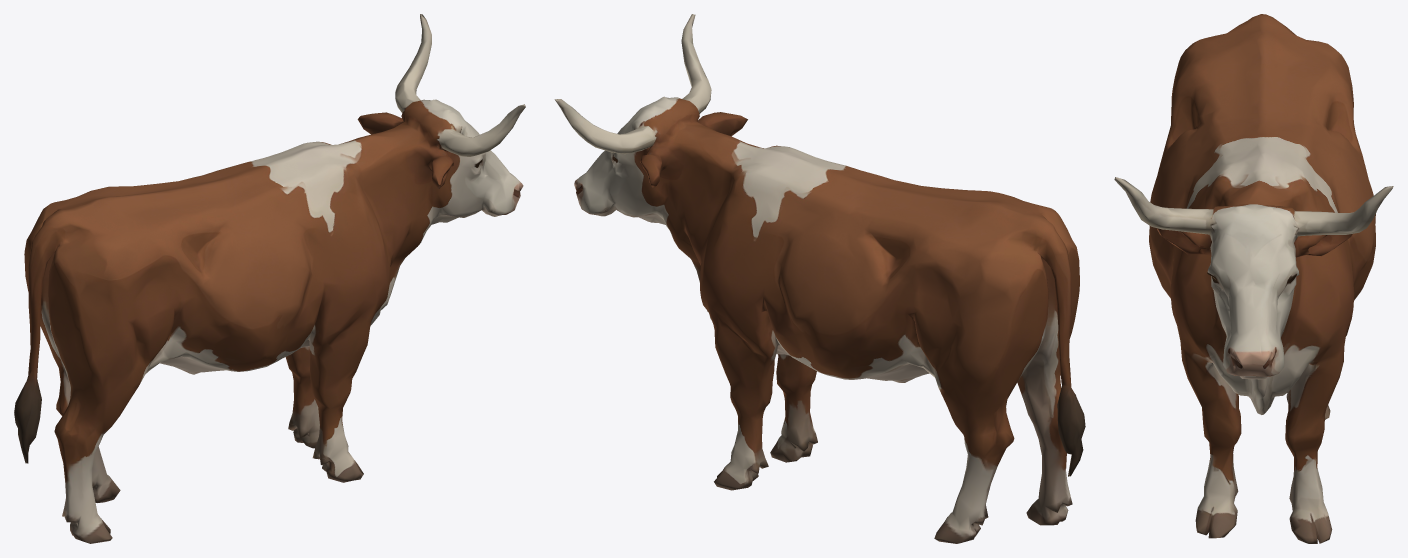
Rendered from 32fb0c29-0552-48a2-9ab2-578a385fbbfc_model_url.glb.
3 renders of one model, left to right at view 1: azimuth 30°, elevation 25°; view 2: azimuth 150°, elevation 25°; view 3: azimuth 270°, elevation 25°, orthographic. The views are drawn at different scales.
Parts seen in each view (by area): view 1: tripo_node_32fb0c29-0552-48a2-9ab2-578a385fbbfc; view 2: tripo_node_32fb0c29-0552-48a2-9ab2-578a385fbbfc; view 3: tripo_node_32fb0c29-0552-48a2-9ab2-578a385fbbfc.
Part boxes in pixels (x1=…): tripo_node_32fb0c29-0552-48a2-9ab2-578a385fbbfc: x1=14, y1=14, x2=525, y2=543; tripo_node_32fb0c29-0552-48a2-9ab2-578a385fbbfc: x1=554, y1=14, x2=1085, y2=543; tripo_node_32fb0c29-0552-48a2-9ab2-578a385fbbfc: x1=1114, y1=14, x2=1393, y2=543.
Bounding box in the file's own units: 1 × 0.7101 × 0.4177.
Materials: 1 (1 with a texture image).
